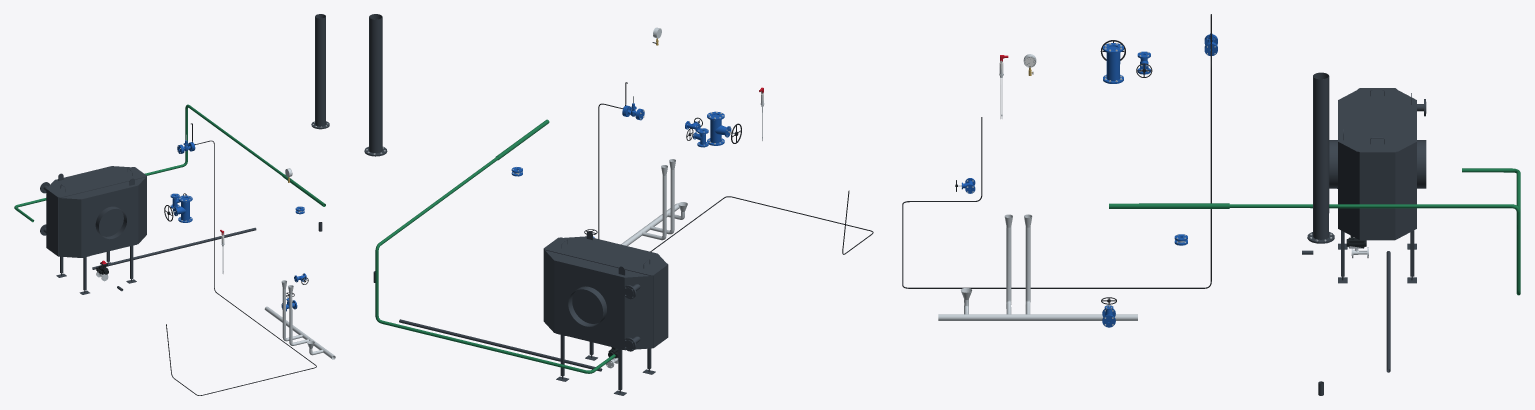
3 renders of one model, left to right at view 1: azimuth 30°, elevation 25°; view 2: azimuth 150°, elevation 25°; view 3: azimuth 270°, elevation 25°, orthographic. The views are drawn at different scales.
Visible parts, largest first — view 1: economizer CAD solid 0, economizer CAD solid 3, economizer CAD solid 1, bdv_vent / dark, local_open_drains / steel, to_economizer / green, mod_eco_drive_cable / black, bottom_discharge / dark, steam_manual / blue; view 2: economizer CAD solid 0, economizer CAD solid 3, economizer CAD solid 2, bdv_vent / dark, to_economizer / green, local_open_drains / steel, mod_eco_drive_cable / black, bottom_discharge / dark, steam_manual / blue; view 3: economizer CAD solid 3, bdv_vent / dark, local_open_drains / steel, to_economizer / green, economizer CAD solid 0, mod_eco_drive_cable / black, pump_delivery / green, steam_manual / blue, bottom_discharge / dark.
Part boxes in pixels (x1,y1,x2,y2): economizer CAD solid 0: (56, 185, 138, 294); economizer CAD solid 3: (46, 166, 146, 256); economizer CAD solid 1: (58, 198, 81, 257); bdv_vent / dark: (311, 14, 329, 129); local_open_drains / steel: (264, 280, 335, 359); to_economizer / green: (14, 104, 283, 222); mod_eco_drive_cable / black: (166, 123, 316, 395); bottom_discharge / dark: (92, 227, 256, 269); steam_manual / blue: (173, 195, 192, 222); economizer CAD solid 0: (554, 260, 655, 395); economizer CAD solid 3: (543, 231, 668, 347); economizer CAD solid 2: (623, 276, 653, 351); bdv_vent / dark: (364, 14, 387, 156); to_economizer / green: (375, 157, 615, 373); local_open_drains / steel: (621, 159, 687, 245); mod_eco_drive_cable / black: (598, 82, 873, 254); bottom_discharge / dark: (399, 319, 602, 371); steam_manual / blue: (707, 111, 731, 145); economizer CAD solid 3: (1338, 88, 1416, 240); bdv_vent / dark: (1307, 72, 1334, 243); local_open_drains / steel: (938, 214, 1137, 320); to_economizer / green: (1229, 168, 1520, 295); economizer CAD solid 0: (1329, 140, 1426, 283); mod_eco_drive_cable / black: (902, 14, 1211, 288); pump_delivery / green: (1109, 203, 1229, 208); steam_manual / blue: (1102, 43, 1123, 83); bottom_discharge / dark: (1386, 251, 1390, 372).
Bounding box in the file's own units: 4.93 × 3.85 × 6.42.
